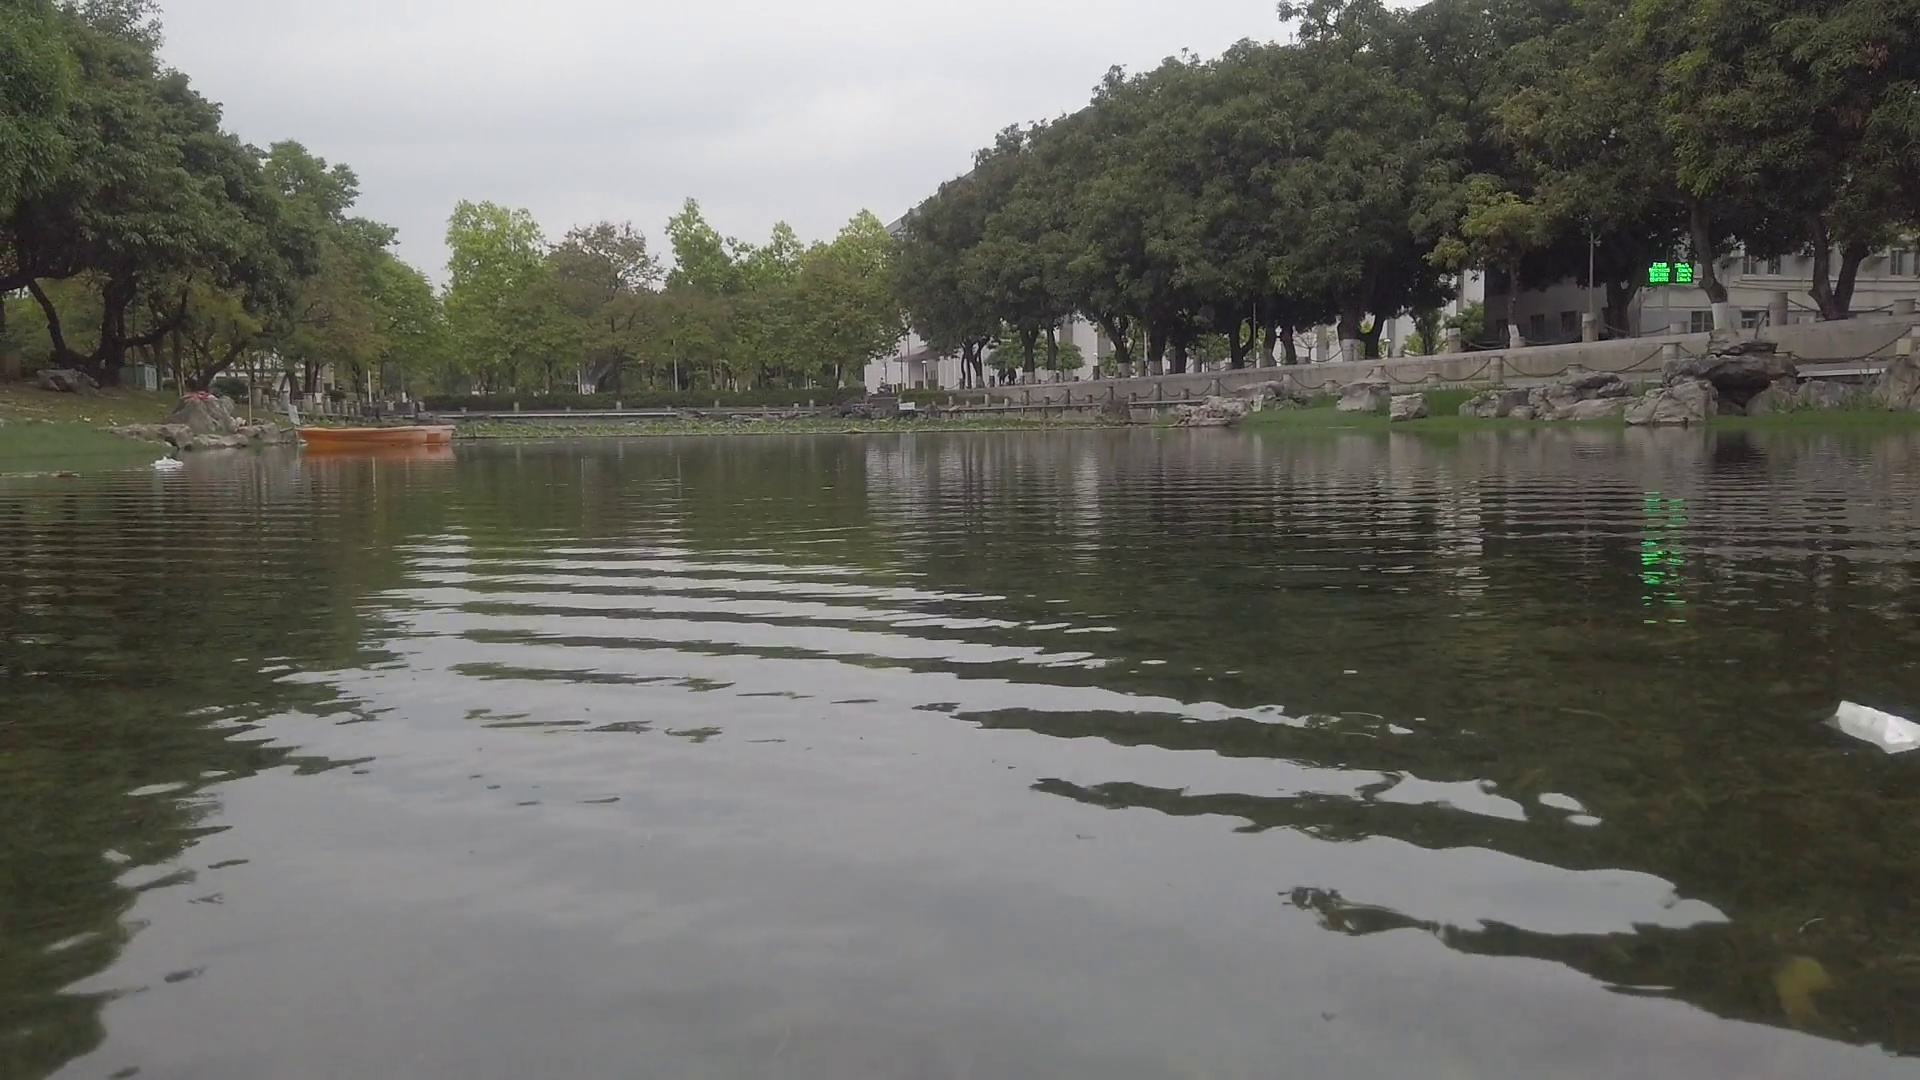carton: (1828, 696, 1916, 754)
plastic: (153, 456, 187, 469)
